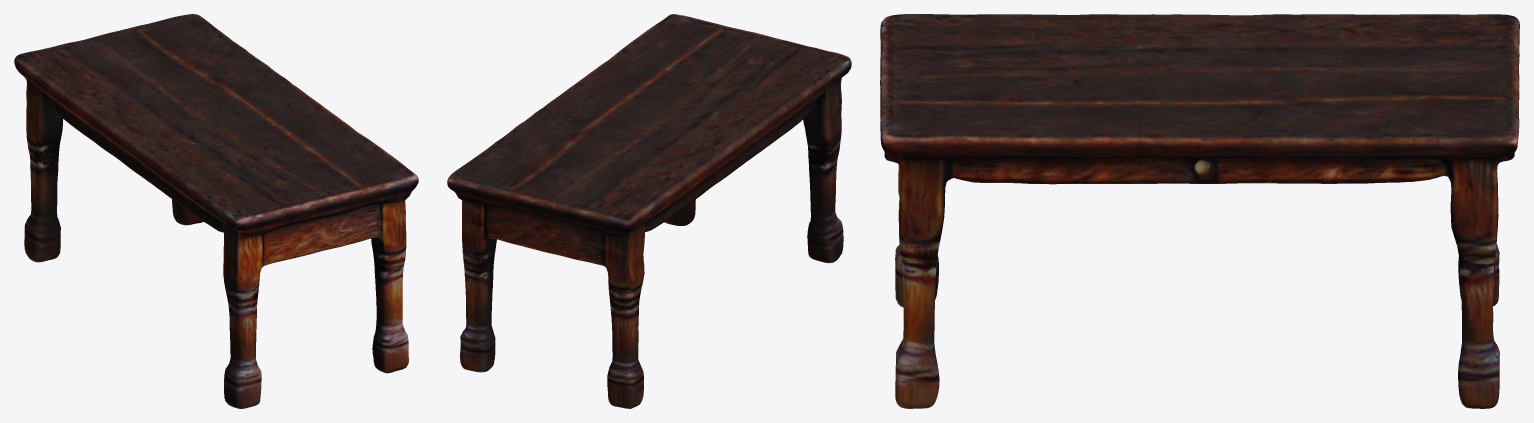
The model's file is 0f8aad531620_brown_wood_old_tabl.fbx.
3 renders of one model, left to right at view 1: azimuth 30°, elevation 25°; view 2: azimuth 150°, elevation 25°; view 3: azimuth 270°, elevation 25°, orthographic. The views are drawn at different scales.
Visible parts, largest first — view 1: mesh; view 2: mesh; view 3: mesh.
Part boxes in pixels (left/top/right/bottom): mesh: left=14, top=14, right=418, bottom=408; mesh: left=447, top=14, right=851, bottom=408; mesh: left=880, top=14, right=1519, bottom=408.
Bounding box in the file's own units: 46.98 × 47.84 × 99.94.
